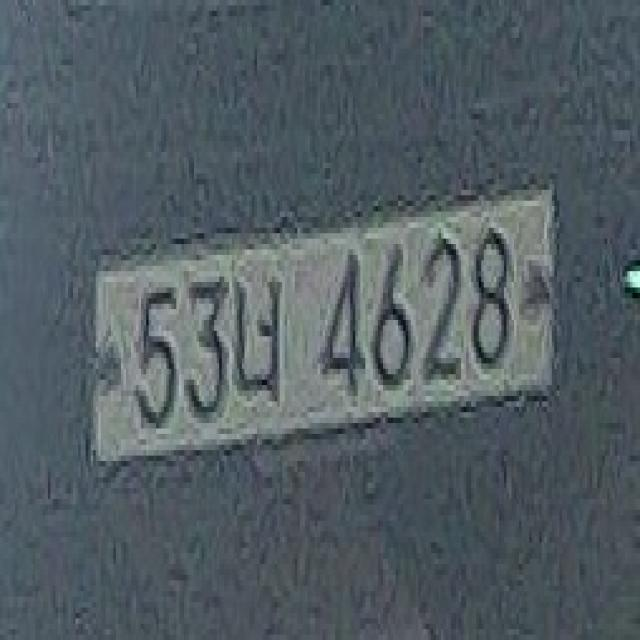2: (406, 233, 471, 396)
3: (179, 282, 229, 418)
4: (320, 249, 370, 396)
5: (136, 282, 181, 429)
6: (363, 238, 418, 390)
8: (464, 222, 522, 374)
license_plate: (86, 162, 572, 482)
neo: (227, 271, 290, 418)
